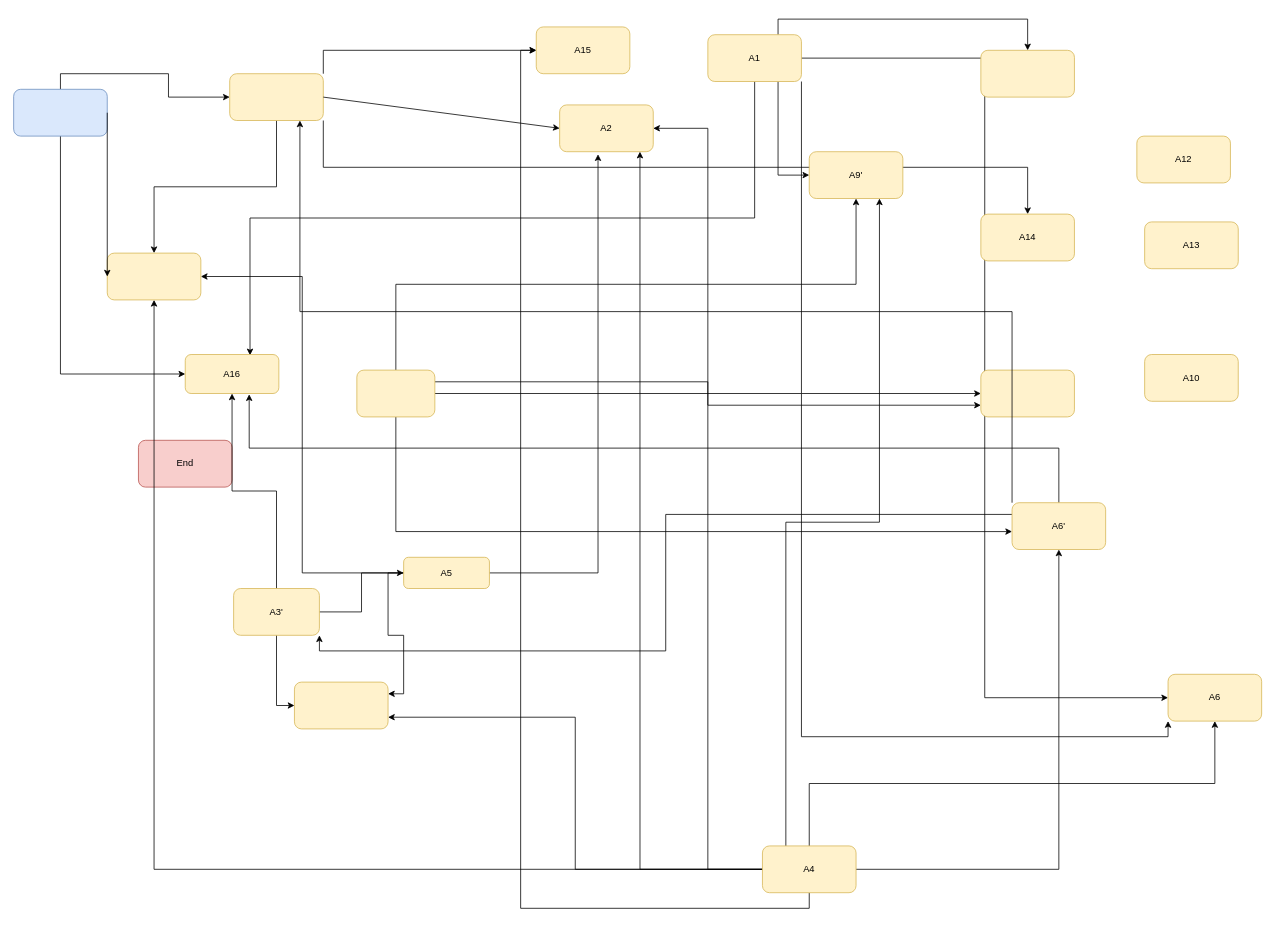
This 1275x928 diagram has some shape labels left out. Here are the shapes that lost their labels. From the top down, the centre of each, then its label:
At (1027,73): "A11".
At (60,112): "Begin".
At (276,97): "A3".
At (153,276): "A7".
At (395,393): "A1'".
At (1027,393): "A9".
At (341,705): "A8".
